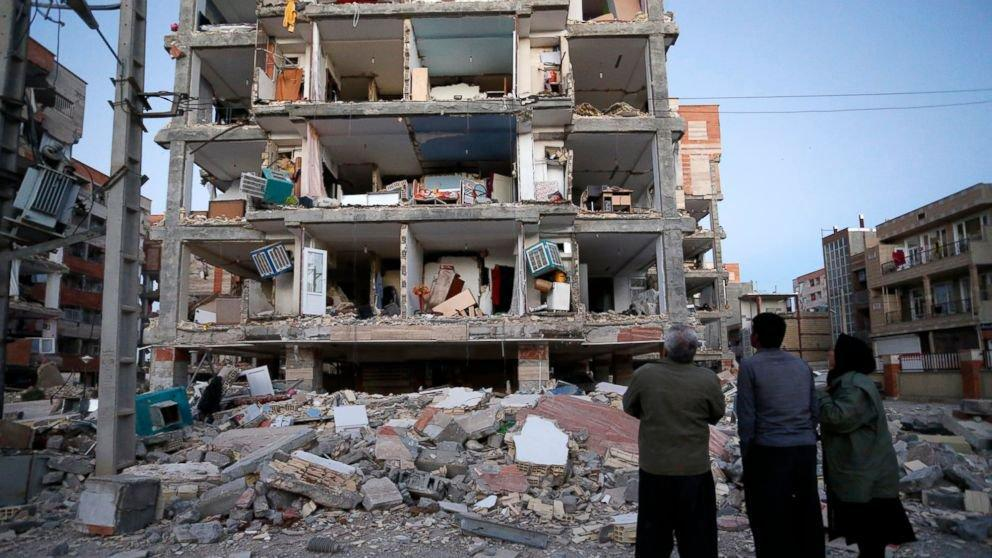destroyed: (165, 8, 736, 418)
